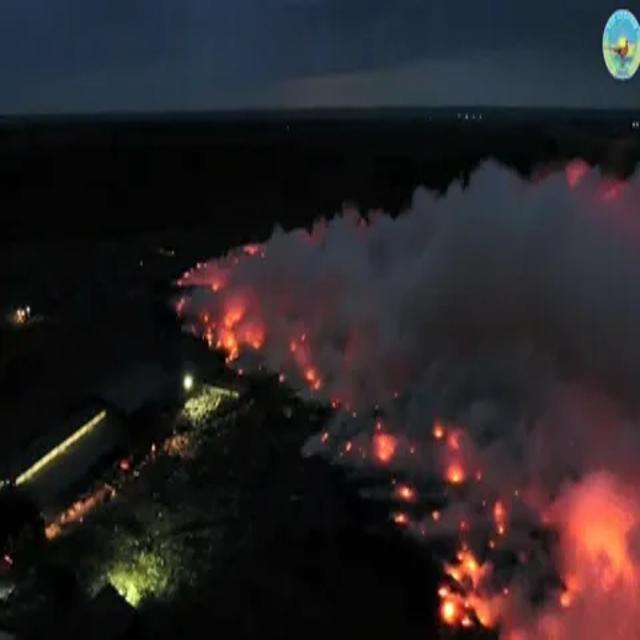Smoke: (173, 163, 640, 640)
